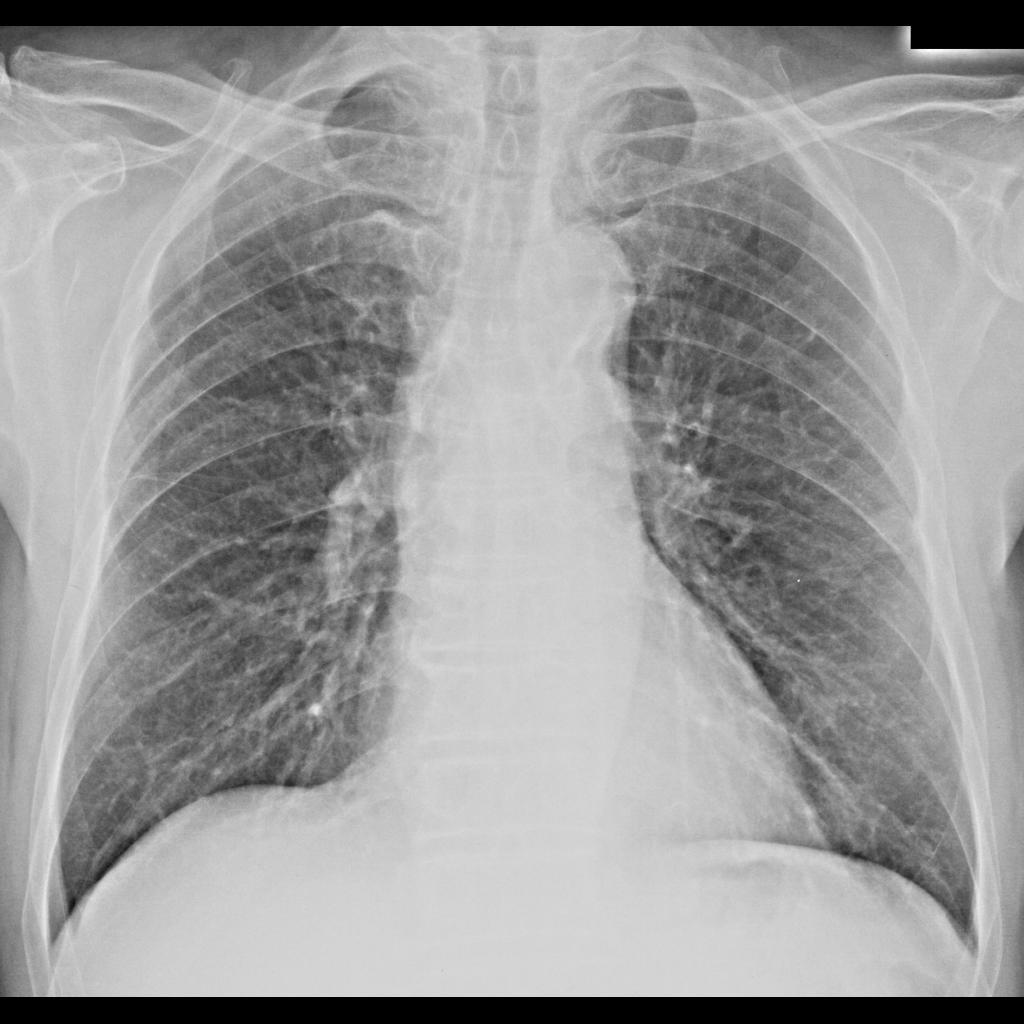Nodule: (865, 505, 914, 553)
